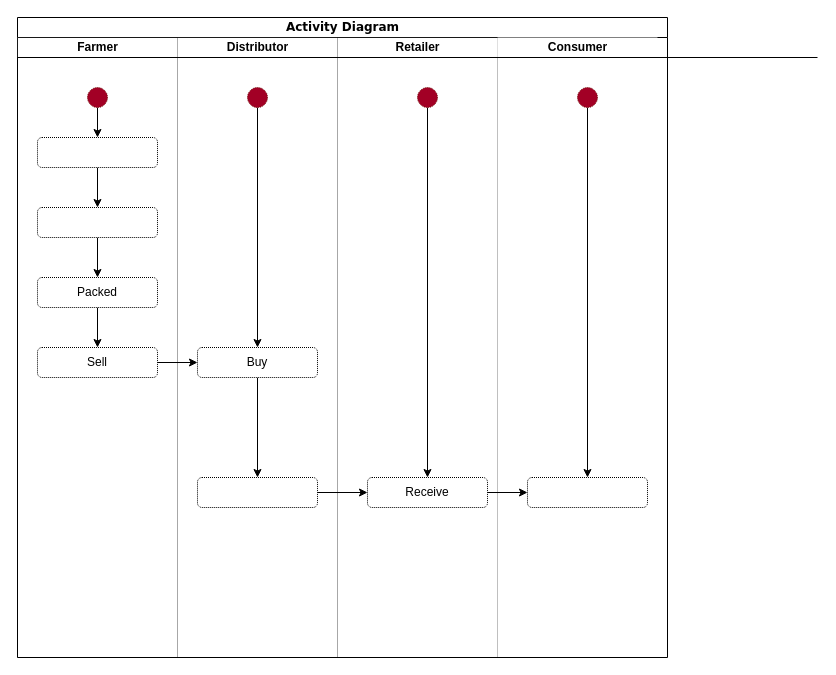
Some shapes in this 836 by 675 pixel diagram are drawn without their labels. Here are the shapes that lost their labels. From the top down, the centre of each, then its label:
the point at 97,152: Harvest
the point at 97,222: Processed
the point at 257,492: Shipped
the point at 587,492: Purchase
